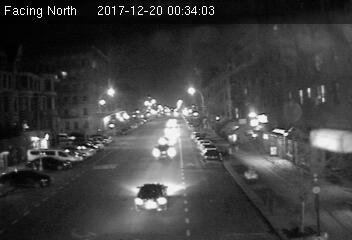car: (134, 182, 171, 213), (151, 143, 176, 161), (200, 148, 223, 163)
